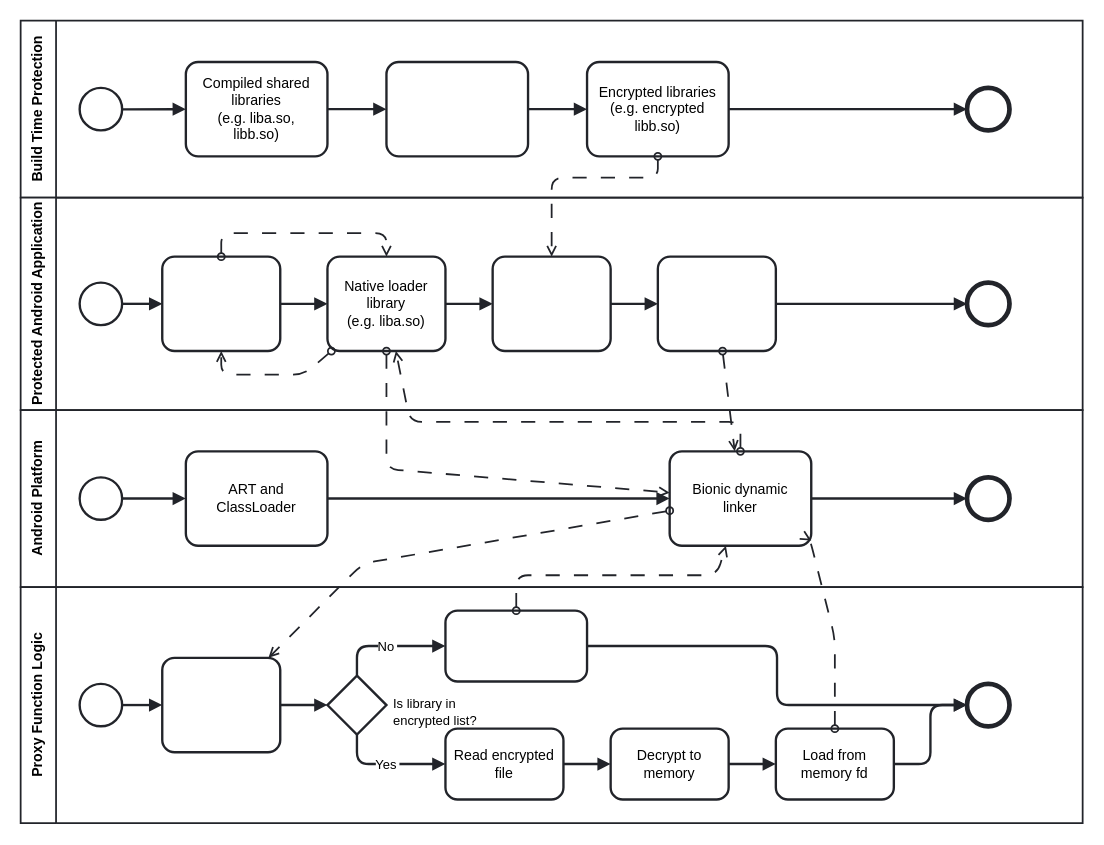
This 1104x845 diagram has some shape labels left out. Each missing label, with the box of its shape:
Encrypted payload library (packaged in APK): (491, 255, 611, 352)
Encryption tool (integrated into build pipeline): (385, 60, 529, 157)
Forward to original dlopen function: (444, 609, 588, 682)
Intercepted dlopen call: (160, 656, 281, 753)
Java/Kotlin layer: (160, 255, 281, 352)
Runtime protection library (hooks + decryption): (656, 255, 776, 352)
